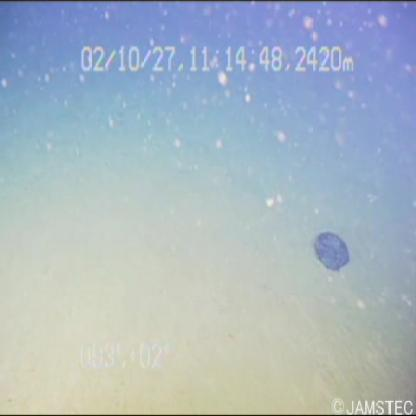Rác: (309, 224, 360, 280)
